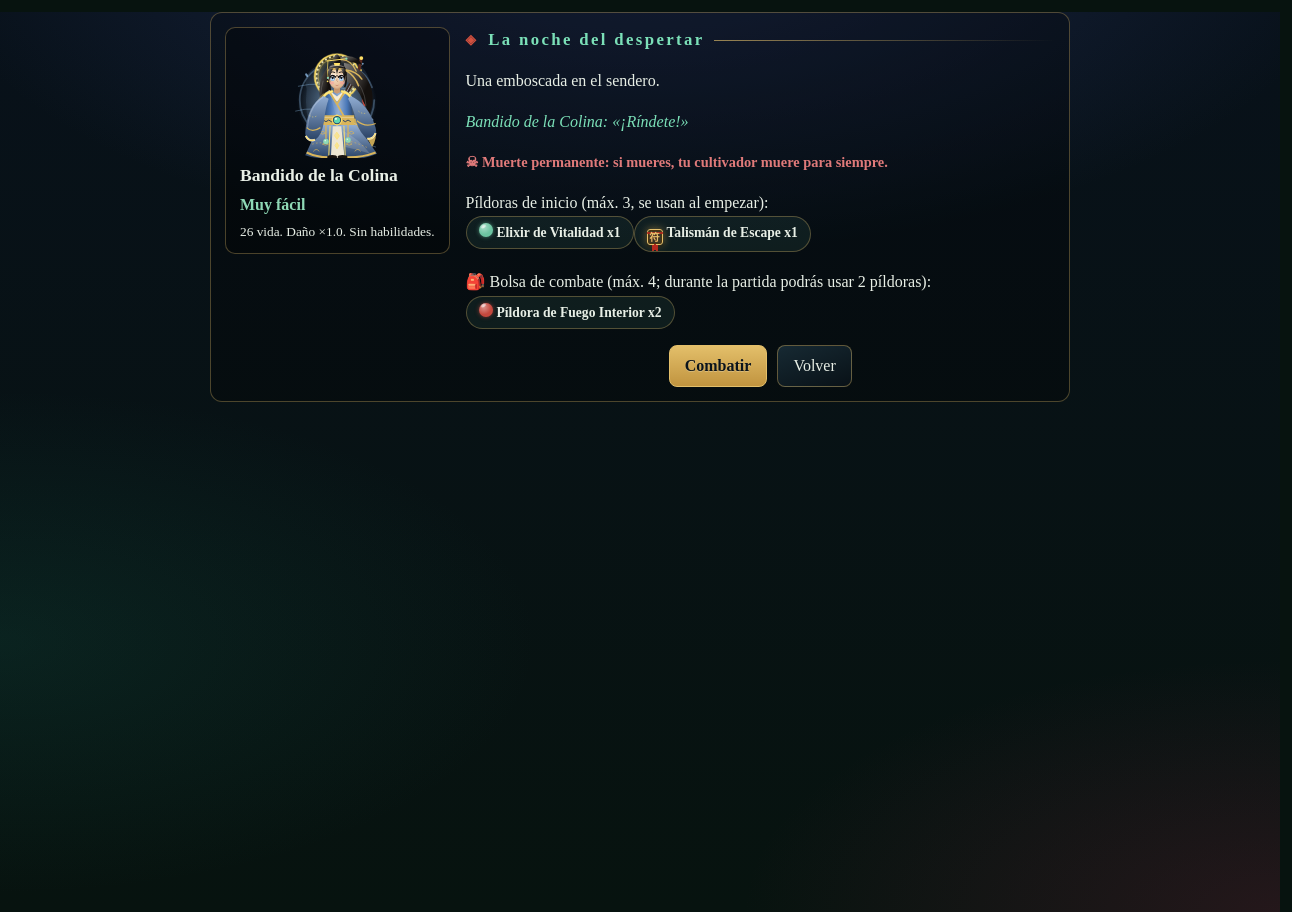
Test: Combate · cabecera de la carta › muestra ataque y vida en círculos como el coste de Qi
The image size is (1292, 912).
Step 1. Click the button "Combatir" → click(718, 366), box left=669, top=345, right=767, bottom=387
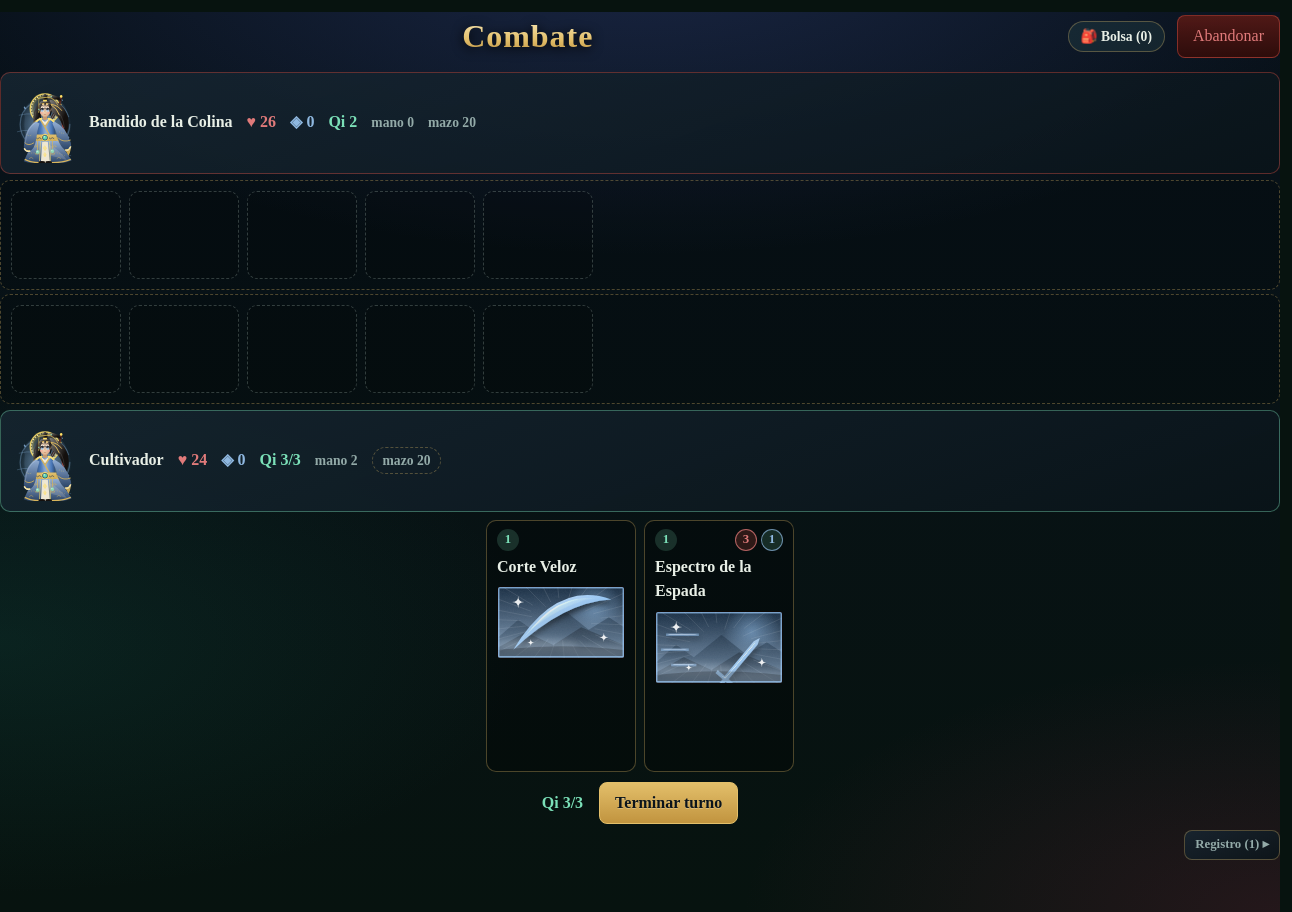
expect the text with class "batq" reads "3": met, box left=743, top=532, right=749, bottom=546
expect the text with class "bvid" reads "1": met, box left=769, top=532, right=775, bottom=546
expect the 1st text with class "coste" is shown: met, box left=497, top=529, right=519, bottom=551
